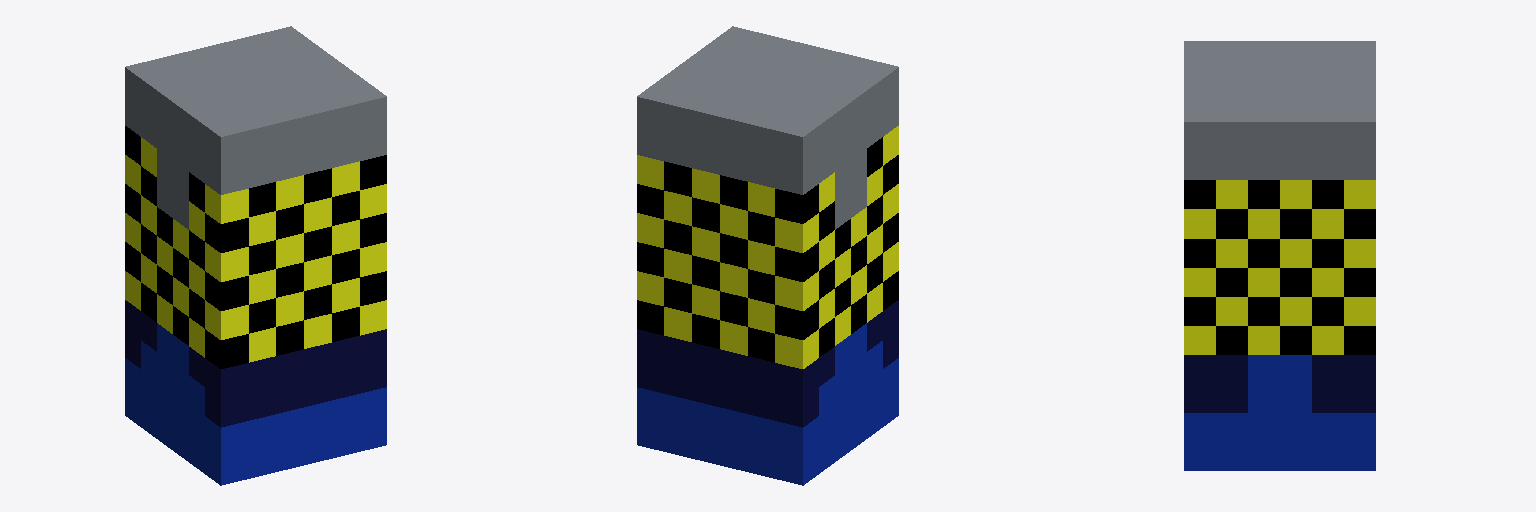
The picture shows the model from 3 angles: view 1: azimuth 30°, elevation 25°; view 2: azimuth 150°, elevation 25°; view 3: azimuth 270°, elevation 25°; orthographic projection.
Parts seen in each view (by area): view 1: Torso; view 2: Torso; view 3: Torso.
Boxes of the visible parts, box(x1,y1,x2,y2) form: Torso: box(125, 26, 386, 485); Torso: box(637, 26, 898, 485); Torso: box(1184, 41, 1375, 470).
Bounding box in the file's own units: 0.6 × 1.2 × 0.6.
1 materials, 1 textured.